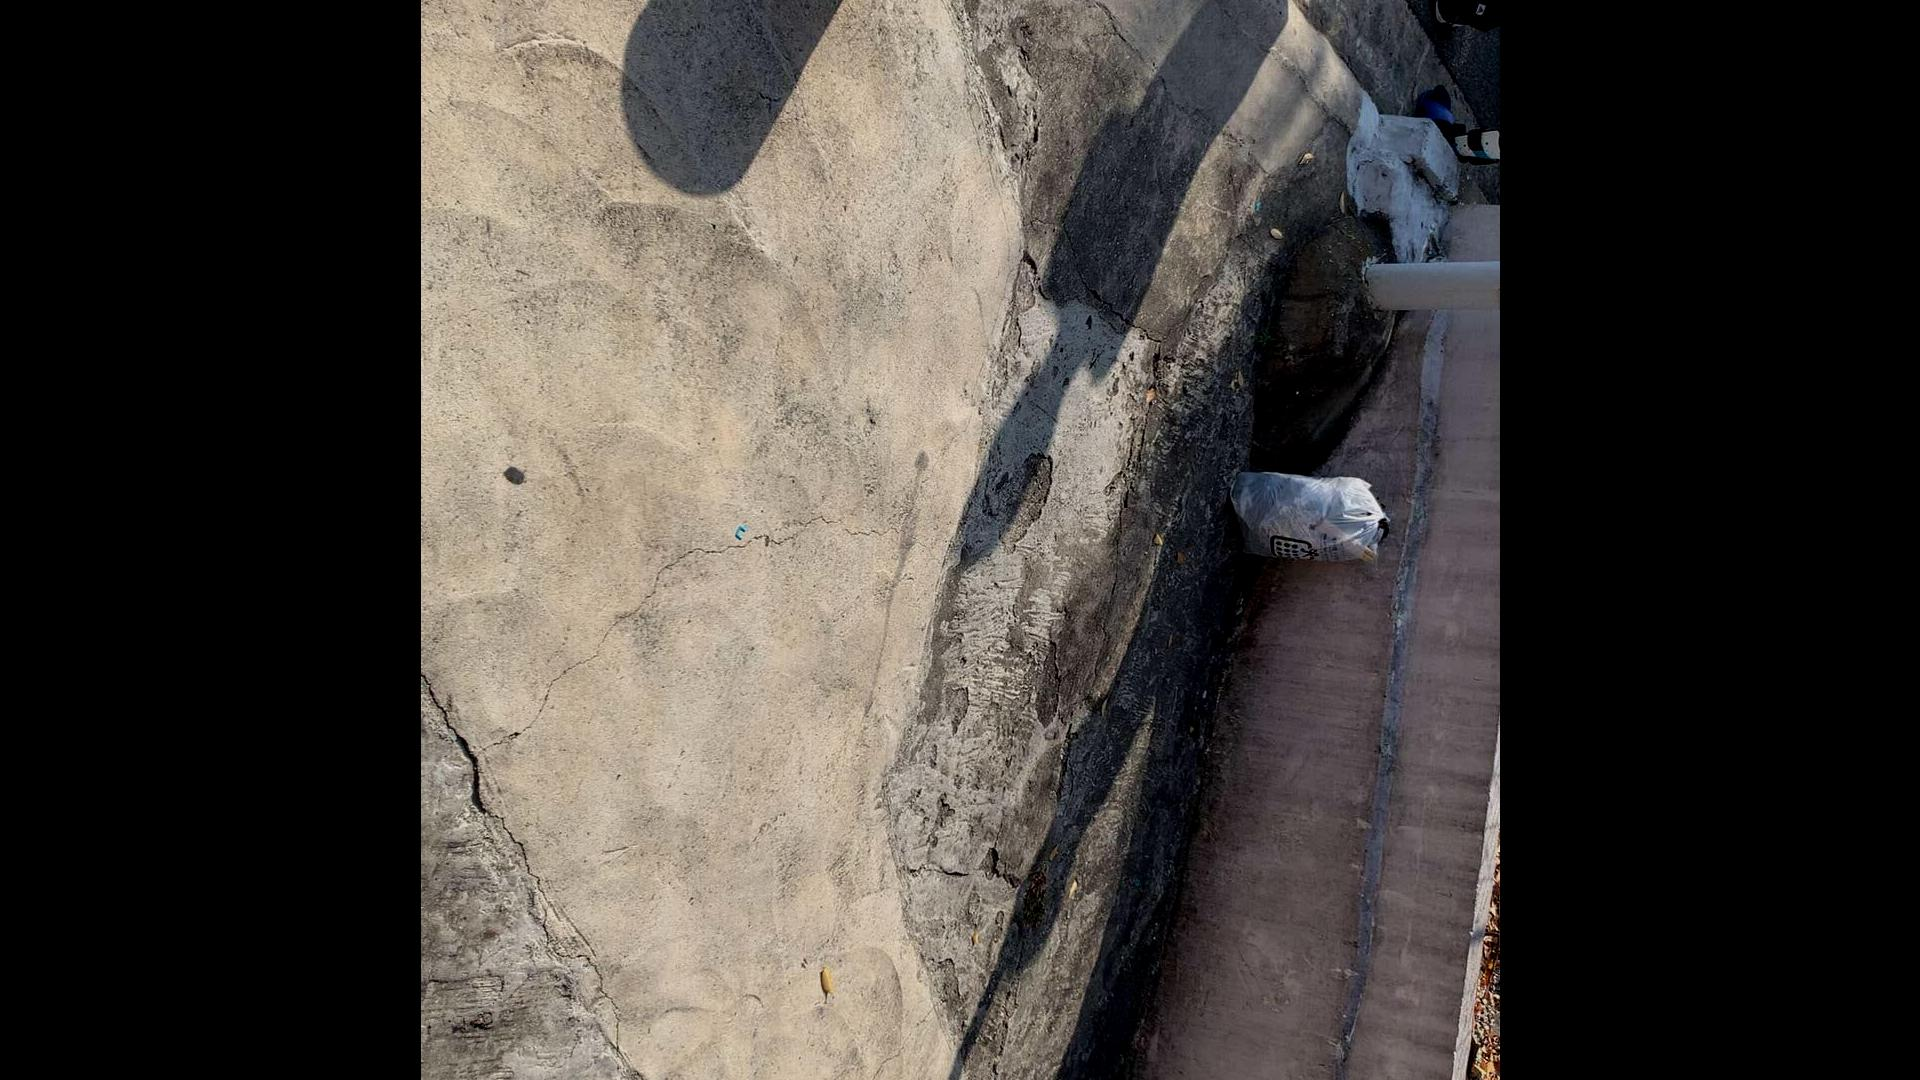white_bag: (1221, 458, 1400, 575)
